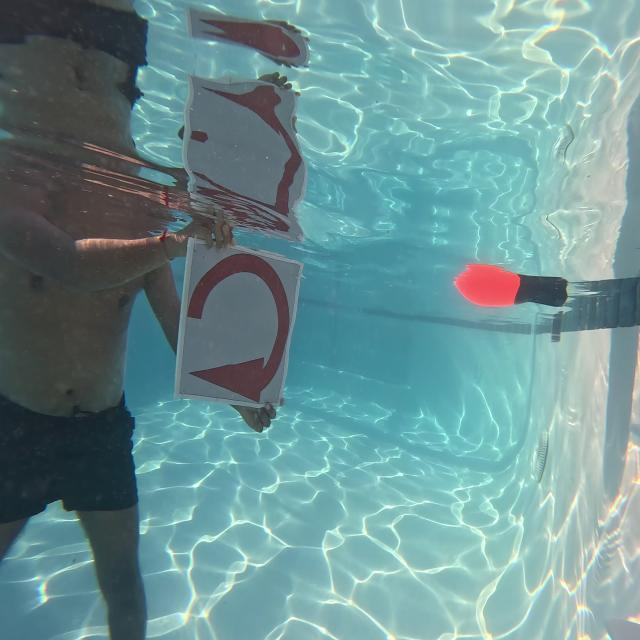red_side: (178, 239, 292, 408)
